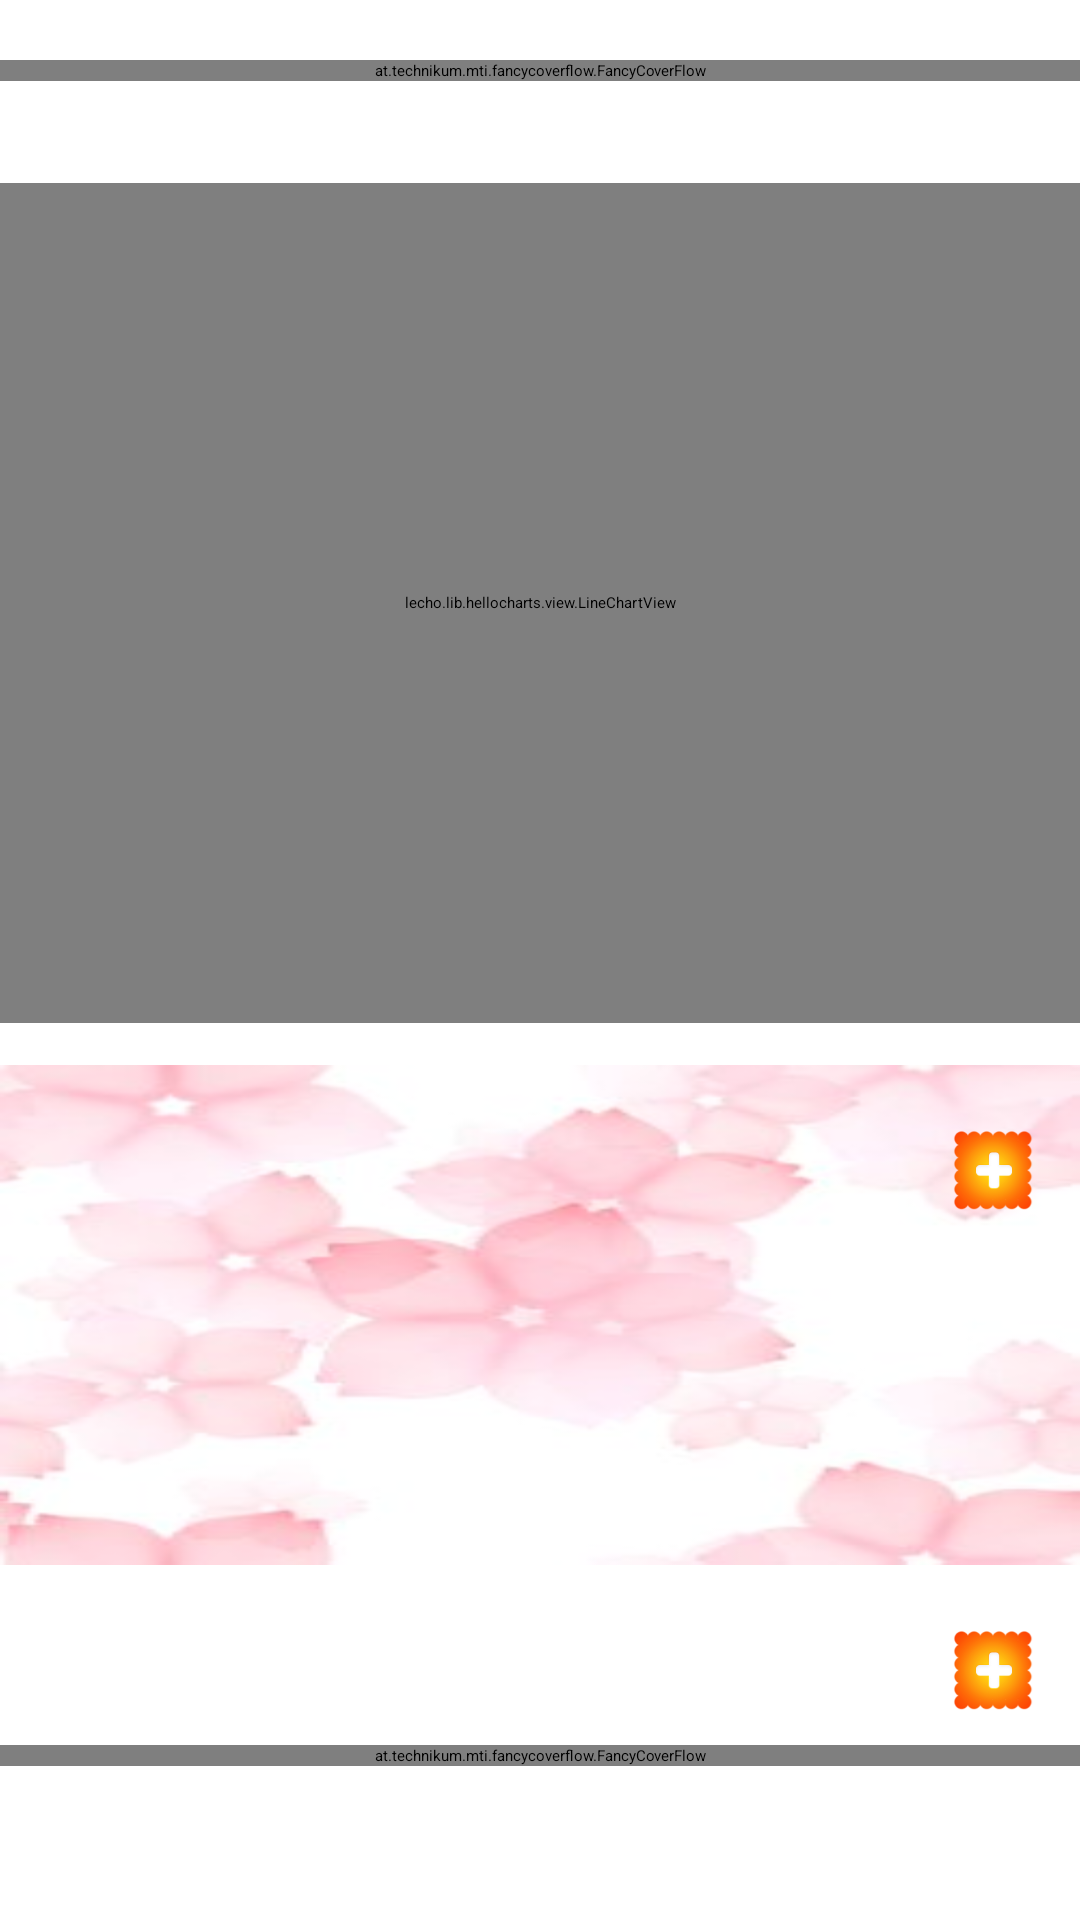

Icons on this 1080px×1920px Android screen, each with its box as {"x1": x1, "y1": y1, "x2": x2, "y2": y2}:
firstpaper add: {"x1": 954, "y1": 1131, "x2": 1038, "y2": 1210}, {"x1": 954, "y1": 1631, "x2": 1032, "y2": 1710}
